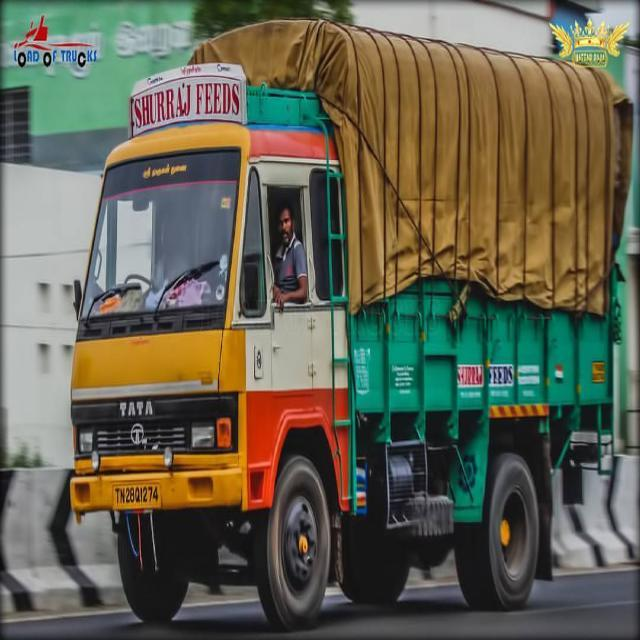Truck: (69, 12, 620, 640)
